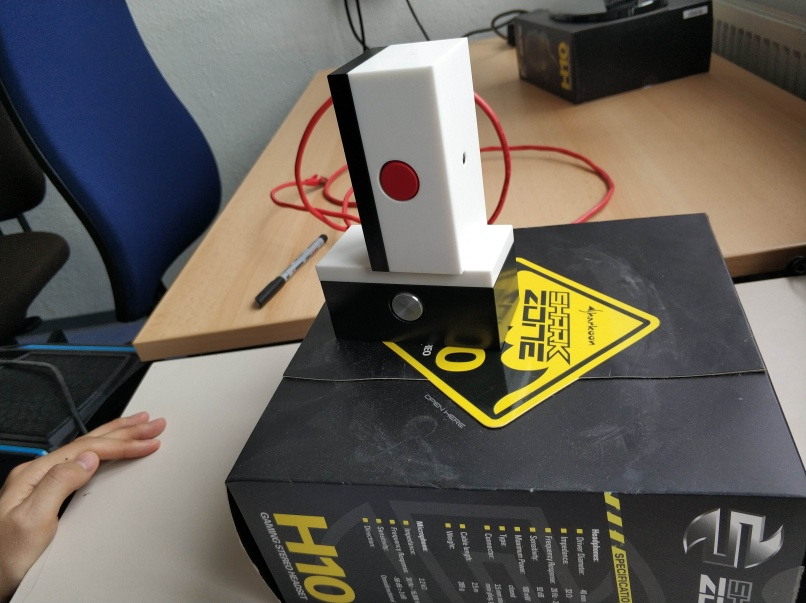black+white+red: (324, 33, 489, 279)
white+black+silver: (314, 220, 519, 350)
